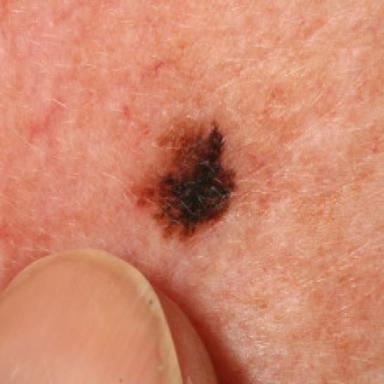Melanoma: (130, 118, 238, 243)
